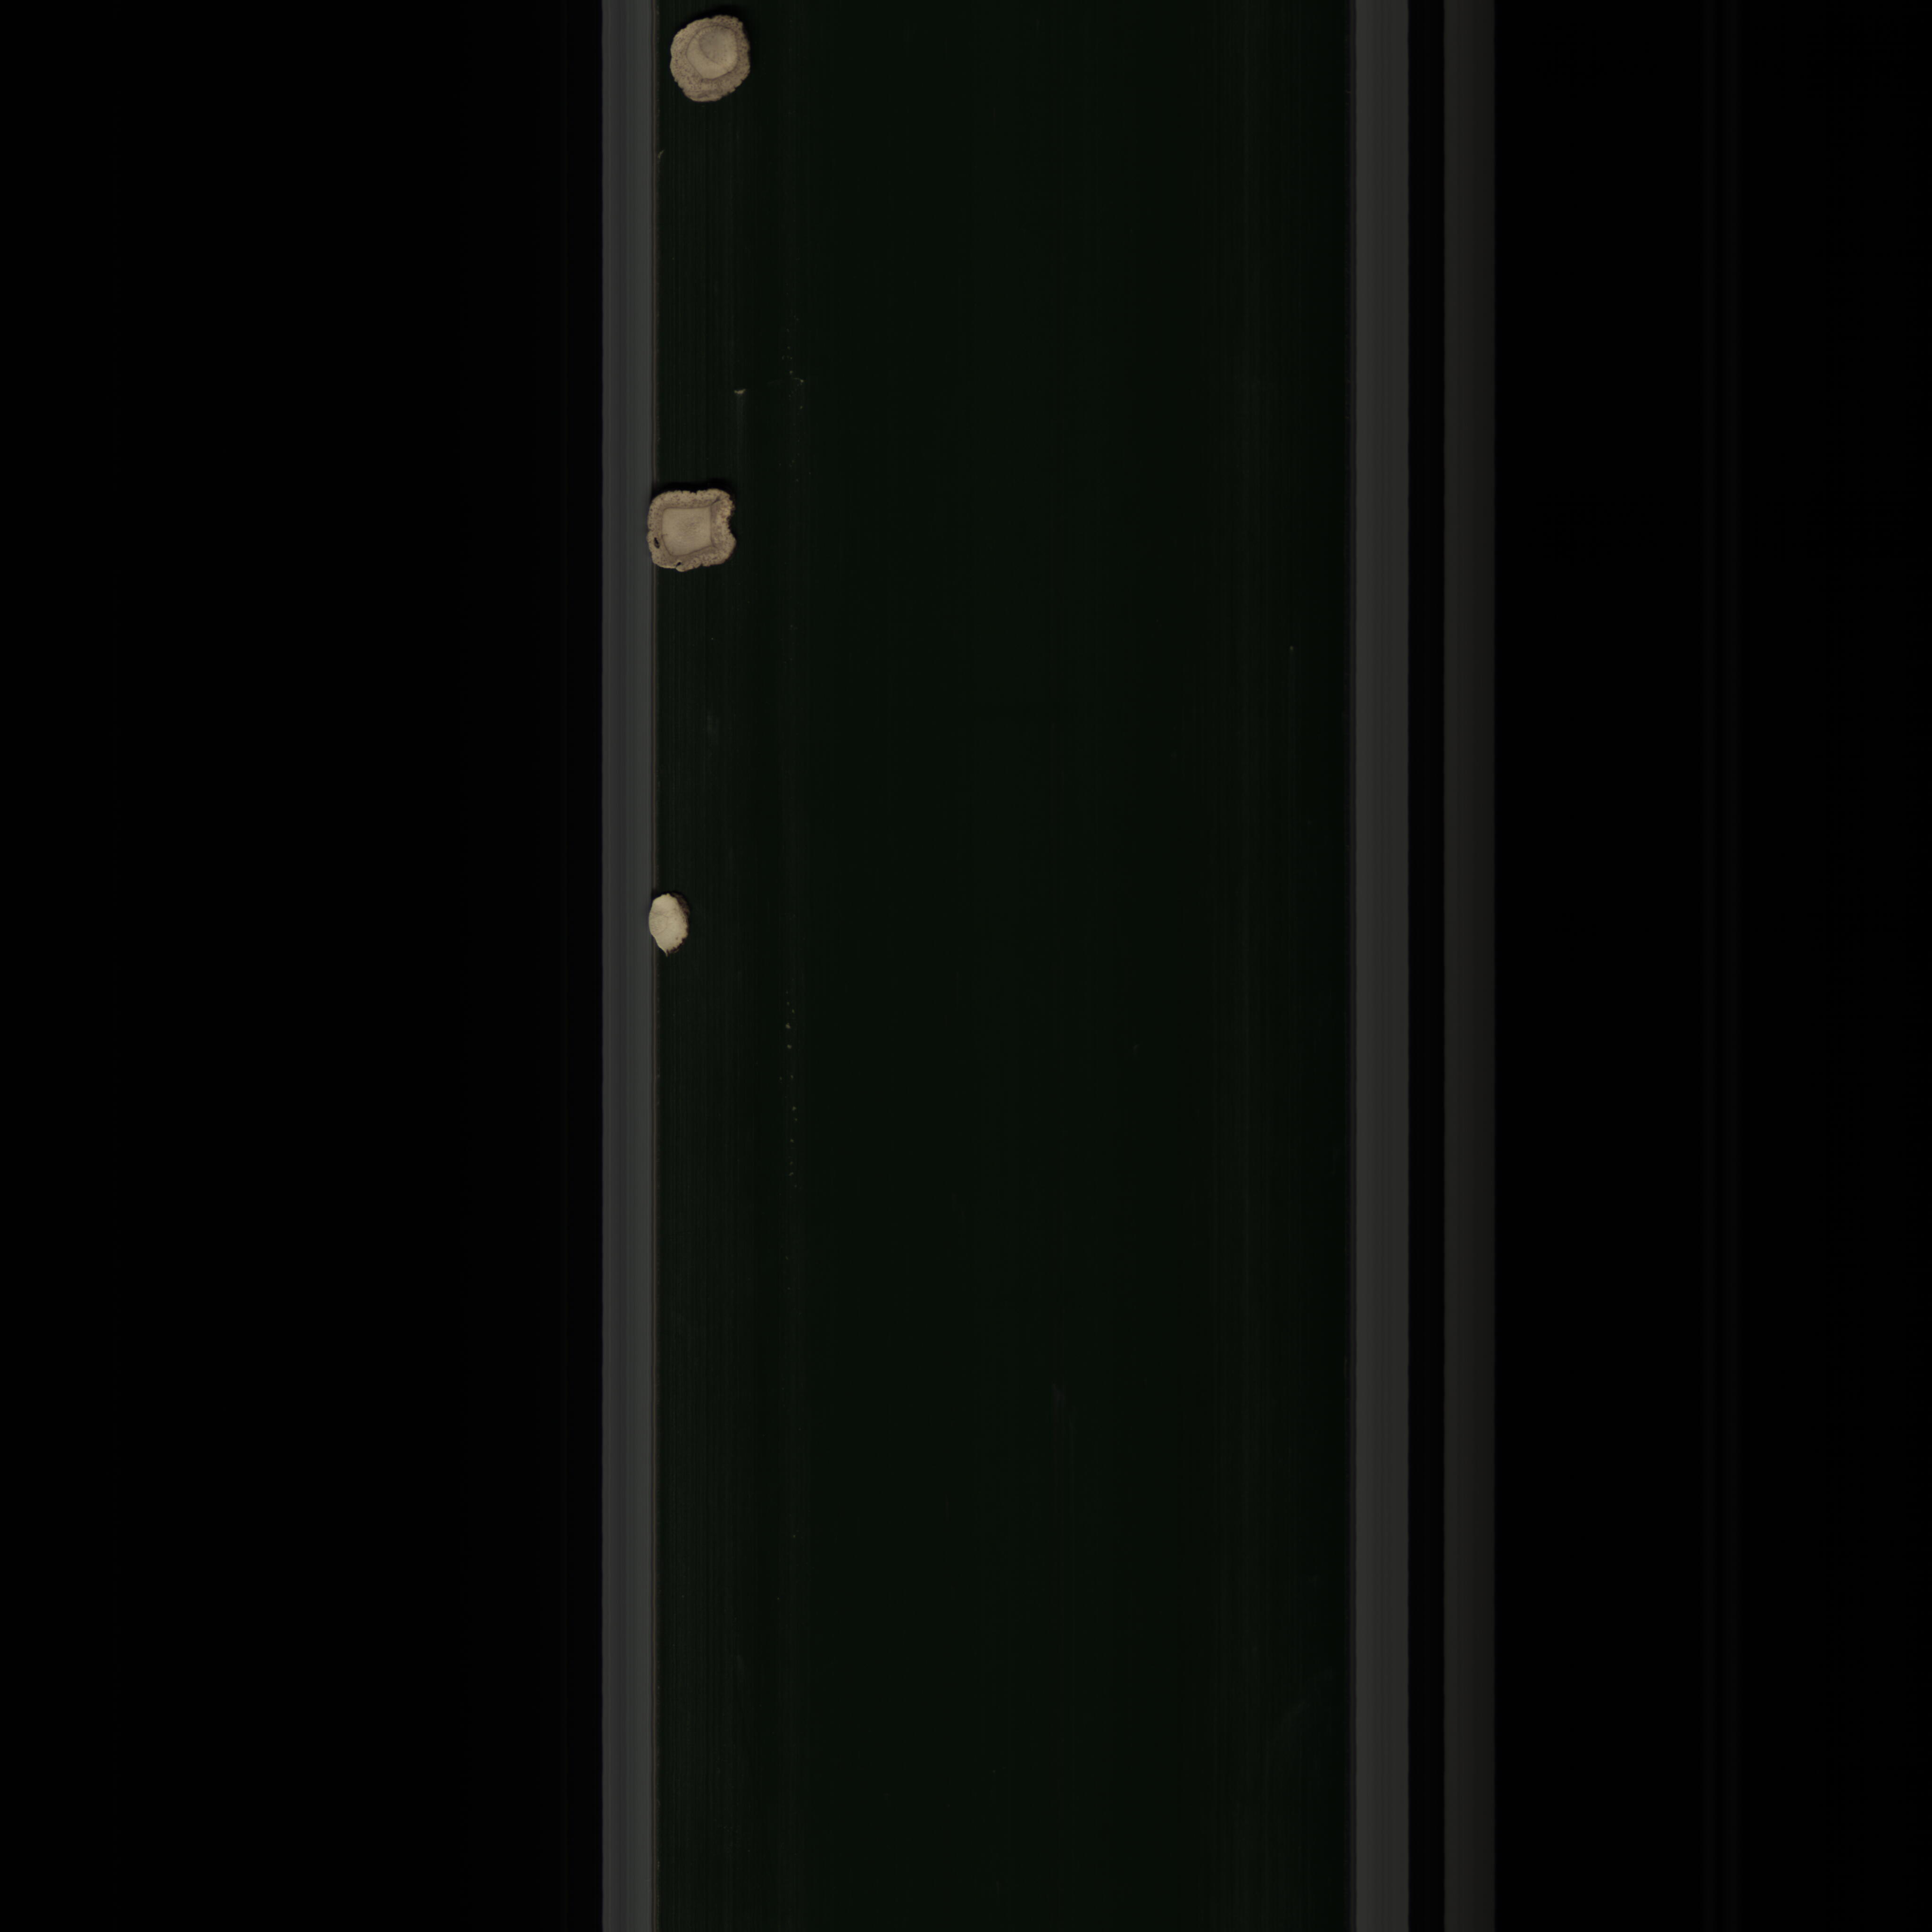debris: (637, 886, 697, 968)
distortion: (633, 479, 745, 580)
